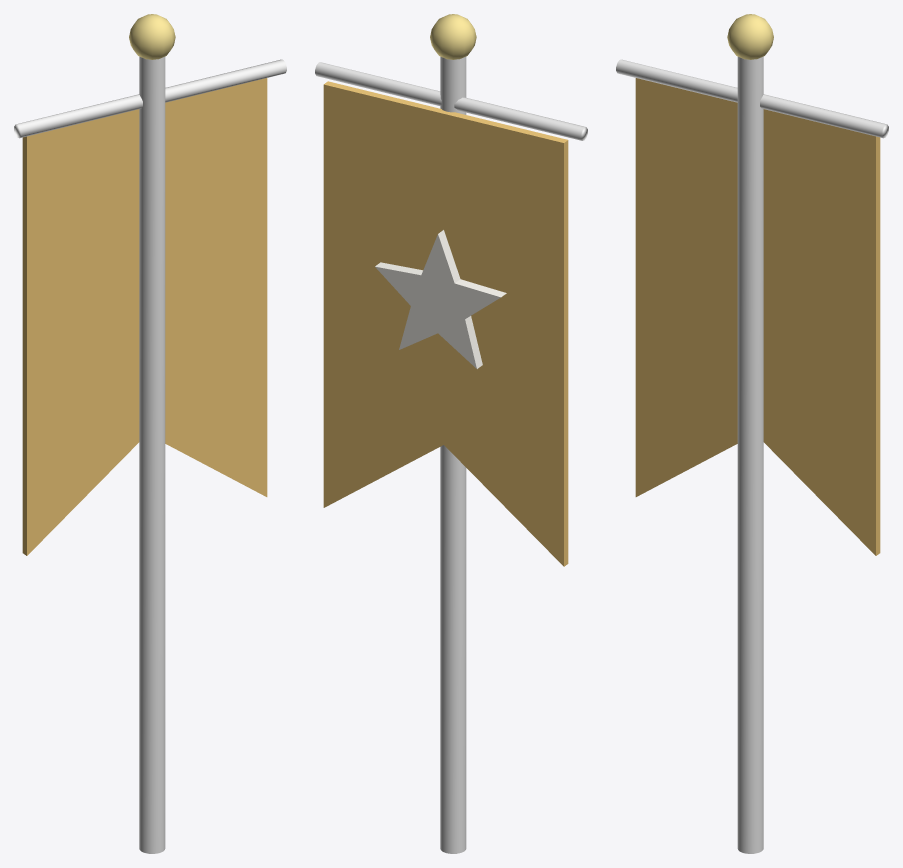
Rendered from StruggleBanner.glb.
The picture shows the model from 3 angles, left to right: view 1: azimuth 30°, elevation 25°; view 2: azimuth 150°, elevation 25°; view 3: azimuth 330°, elevation 25°; orthographic projection.
Parts seen in each view (by area): view 1: Cloth, Pole, Finial; view 2: Cloth, Pole, Emblem, Finial; view 3: Cloth, Pole, Finial.
Boxes of the visible parts, box(x1,y1,x2,y2) form: Cloth: box(22, 78, 267, 555); Pole: box(14, 56, 286, 853); Finial: box(129, 14, 175, 59); Cloth: box(323, 81, 568, 566); Pole: box(315, 56, 587, 853); Emblem: box(375, 230, 506, 368); Finial: box(430, 14, 476, 59); Cloth: box(635, 78, 880, 555); Pole: box(616, 56, 888, 853); Finial: box(727, 14, 773, 59).
Bounding box in the file's own units: 4.2 × 12.57 × 0.74.
